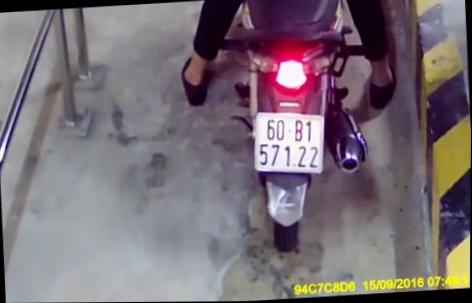LP: (249, 108, 329, 181)
